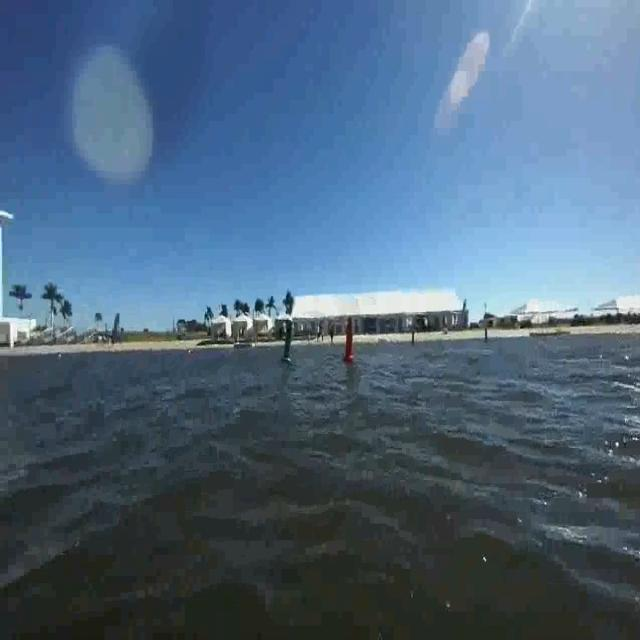green-column-buoy: (282, 319, 294, 366)
red-column-buoy: (343, 318, 358, 364)
